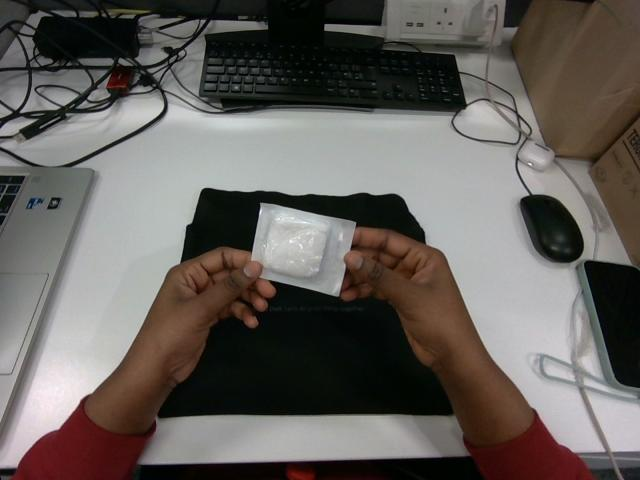gauze: (252, 203, 355, 295)
